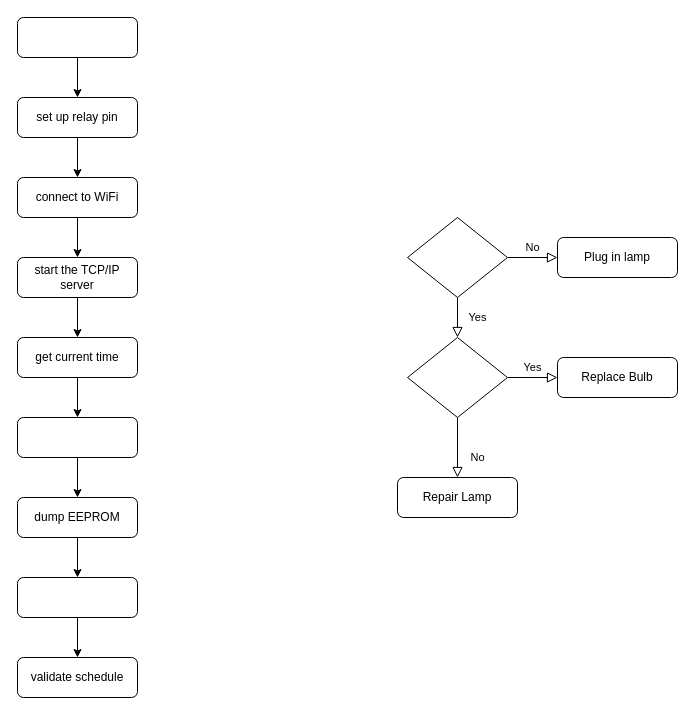
This 695x715 diagram has some shape labels left out. The shapes that lost their labels are listed below. From the top down, each one's centre as x and y in pixels, then its label:
[77,37]: set up serial port
[457,257]: Lamp plugged in?
[457,377]: Bulb burned out?
[77,437]: print current time
[77,597]: get schedule from EEPROM
